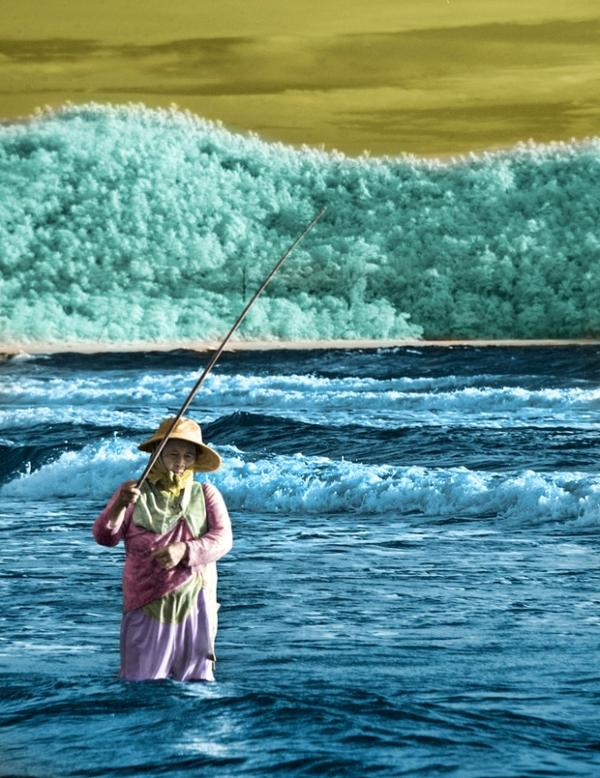person: (93, 416, 236, 684)
